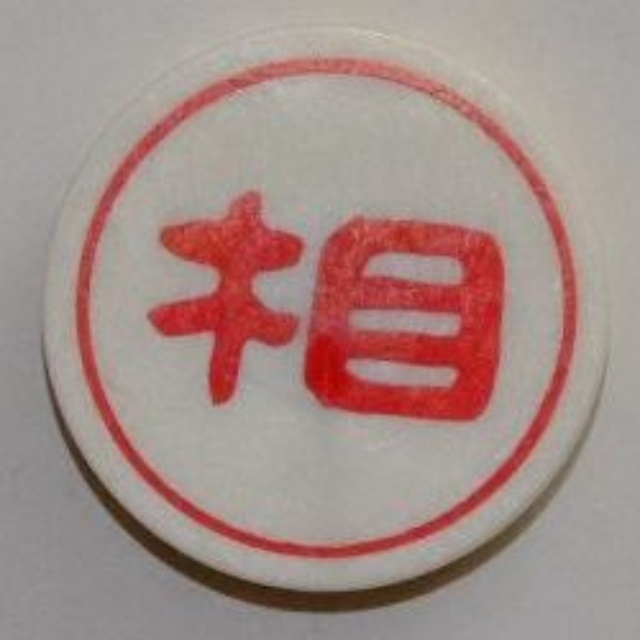red_bo: (41, 34, 621, 597)
